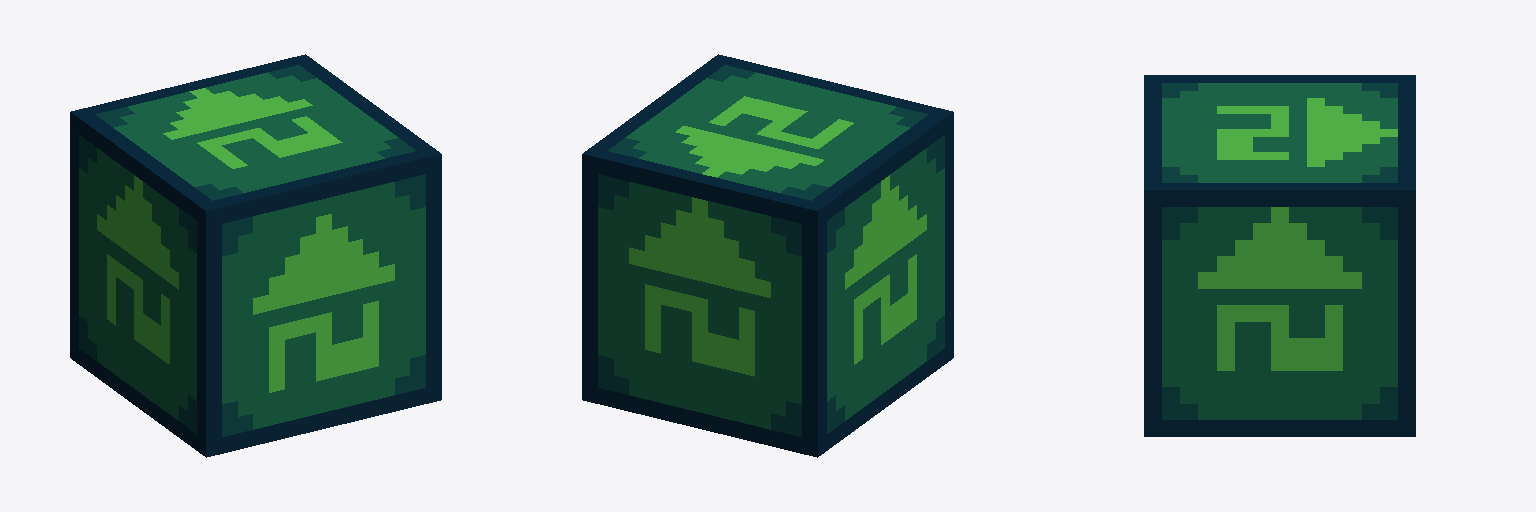
The picture shows the model from 3 angles: view 1: azimuth 30°, elevation 25°; view 2: azimuth 150°, elevation 25°; view 3: azimuth 270°, elevation 25°; orthographic projection.
Parts seen in each view (by area): view 1: object 1; view 2: object 1; view 3: object 1.
Part boxes in pixels (x1,y1,x2,y2): object 1: (70,54,441,457); object 1: (582,54,953,457); object 1: (1144,75,1415,436).
Bounding box in the file's own units: 1.5 × 1.5 × 1.5.
Materials: 1 (1 with a texture image).